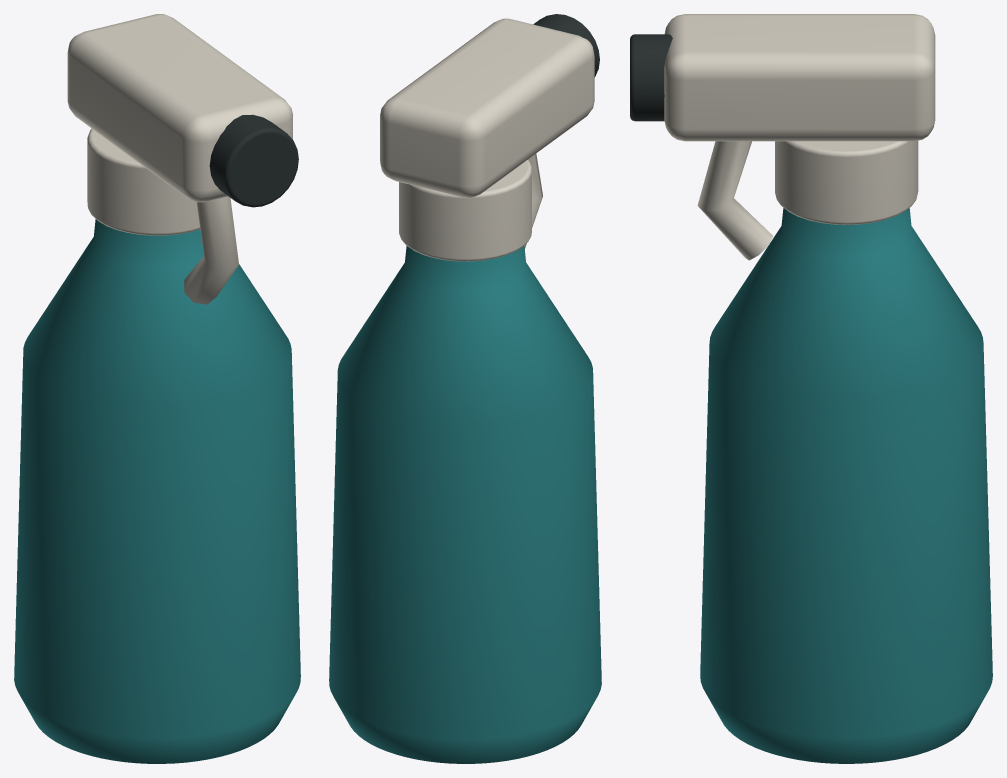
The model's file is investigation-trigger-spray-bottle.glb.
3 renders of one model, left to right at view 1: azimuth 30°, elevation 25°; view 2: azimuth 150°, elevation 25°; view 3: azimuth 270°, elevation 25°, orthographic. The views are drawn at different scales.
Parts seen in each view (by area): view 1: Molded spray bottle, Spray trigger head, Threaded bottle cap, Adjustable spray nozzle, Curved squeeze trigger; view 2: Molded spray bottle, Spray trigger head, Threaded bottle cap, Adjustable spray nozzle, Curved squeeze trigger; view 3: Molded spray bottle, Spray trigger head, Threaded bottle cap, Curved squeeze trigger, Adjustable spray nozzle.
Boxes of the visible parts, <box> form: Molded spray bottle: <box>14,219,300,763</box>; Spray trigger head: <box>67,14,292,202</box>; Threaded bottle cap: <box>87,128,200,235</box>; Adjustable spray nozzle: <box>209,114,298,207</box>; Curved squeeze trigger: <box>184,196,238,304</box>; Molded spray bottle: <box>329,246,601,763</box>; Spray trigger head: <box>380,18,594,197</box>; Threaded bottle cap: <box>399,160,531,261</box>; Adjustable spray nozzle: <box>533,14,599,77</box>; Curved squeeze trigger: <box>524,154,542,248</box>; Molded spray bottle: <box>700,208,992,763</box>; Spray trigger head: <box>664,14,935,141</box>; Threaded bottle cap: <box>775,140,918,224</box>; Curved squeeze trigger: <box>697,141,772,260</box>; Adjustable spray nozzle: <box>630,34,672,121</box>.
Size of the model in its own units: 0.094 by 0.2395 by 0.1165.
3 materials, 3 textured.
